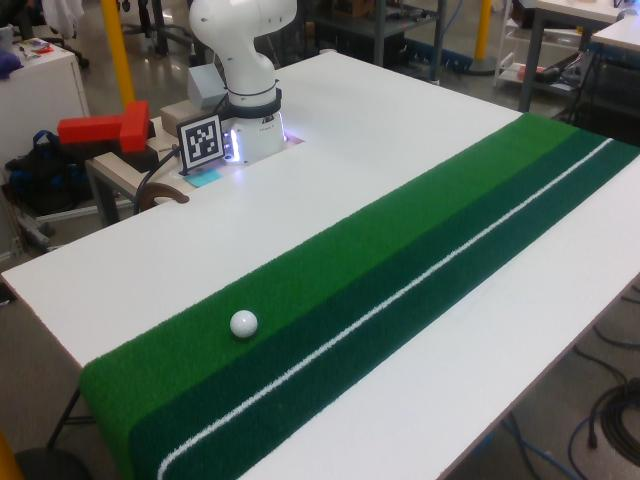golf_balls: (230, 310, 258, 338)
